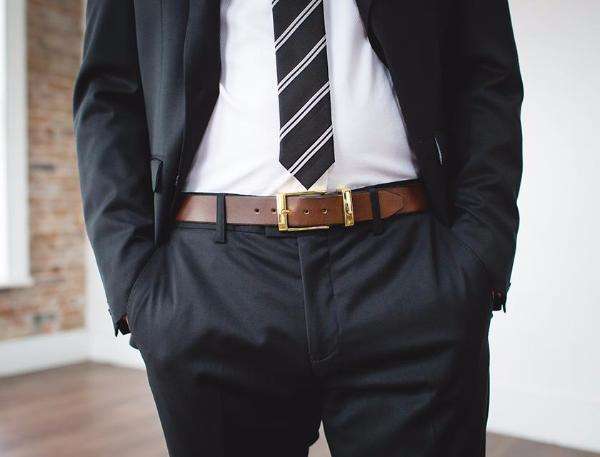F_M_suit jacket: (76, 1, 527, 348)
F_belt: (163, 184, 442, 233)
F_dress pants: (135, 232, 492, 450)
F_tie: (261, 1, 340, 183)
